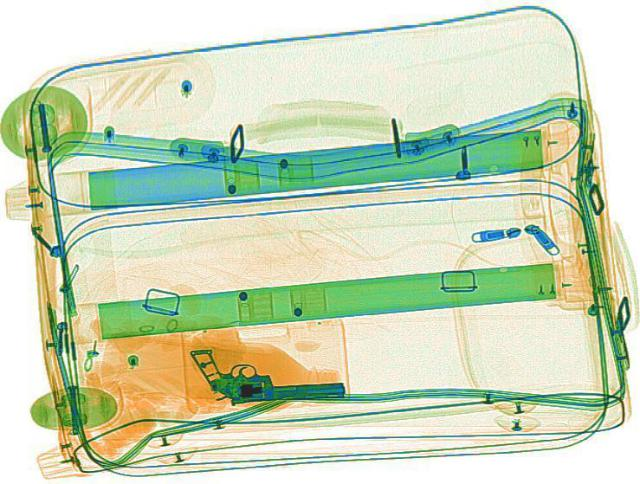Gun: (186, 335, 348, 406)
